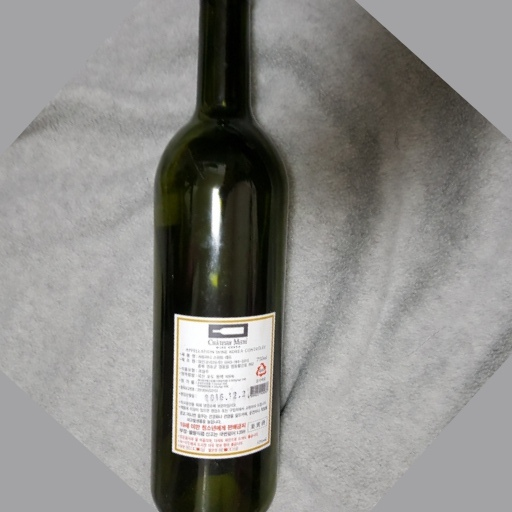Glass_2: (131, 1, 295, 512)
